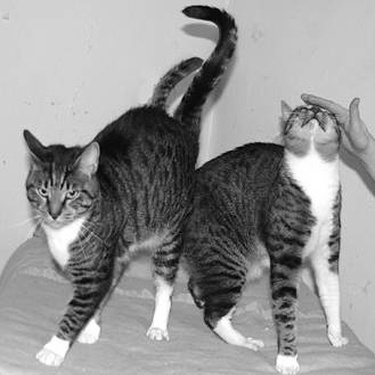cat: (22, 4, 238, 370), (148, 55, 348, 371)
